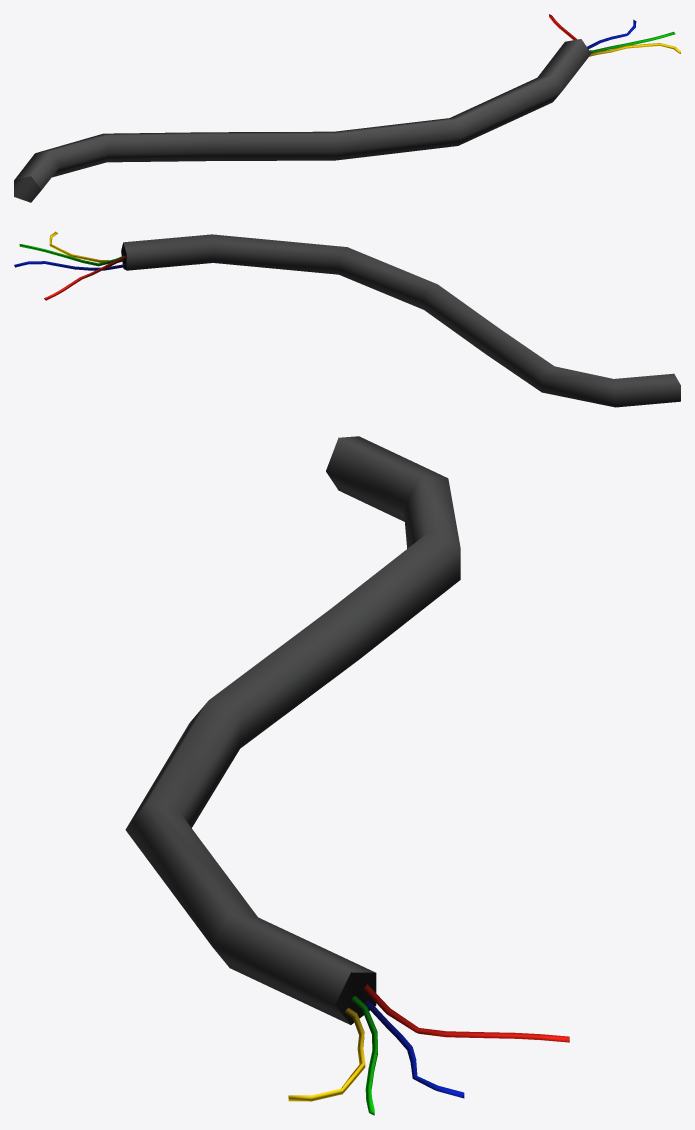
File: CabosCaidos.fbx
The picture shows the model from 3 angles, top to bottom: view 1: azimuth 30°, elevation 25°; view 2: azimuth 150°, elevation 25°; view 3: azimuth 270°, elevation 25°; orthographic projection. The views are drawn at different scales.
Visible parts, largest first — view 1: CabosCaidos; view 2: CabosCaidos; view 3: CabosCaidos.
Boxes of the visible parts, bbox=[...] form: CabosCaidos: bbox=[14, 14, 680, 202]; CabosCaidos: bbox=[14, 231, 680, 407]; CabosCaidos: bbox=[125, 436, 569, 1115].
Bounding box in the file's own units: 198 × 7.61 × 58.01.
